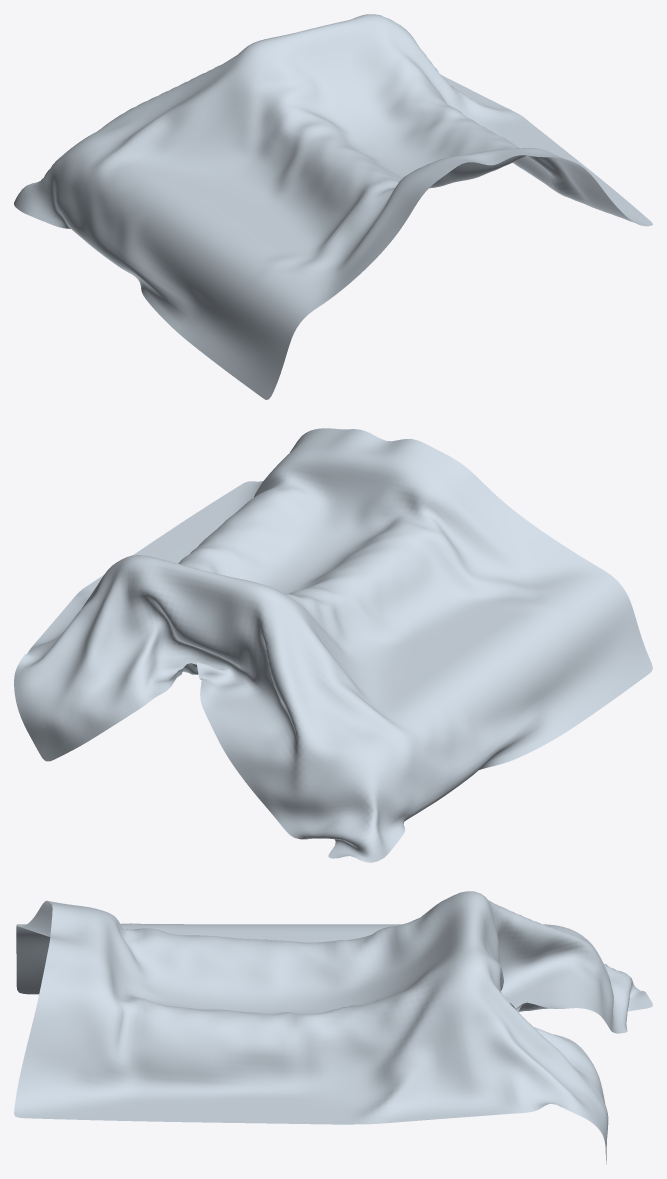
Rendered from Blanket.fbx.
3 views of the same model, one above another, from view 1: azimuth 30°, elevation 25°; view 2: azimuth 150°, elevation 25°; view 3: azimuth 270°, elevation 25° (orthographic). The views are drawn at different scales.
Parts seen in each view (by area): view 1: Blanket; view 2: Blanket; view 3: Blanket.
Part boxes in pixels (x1=…): Blanket: x1=14, y1=14, x2=652, y2=399; Blanket: x1=14, y1=428, x2=652, y2=862; Blanket: x1=14, y1=891, x2=652, y2=1164.
Size of the model in its own units: 0.8389 by 0.3563 by 0.9848.
